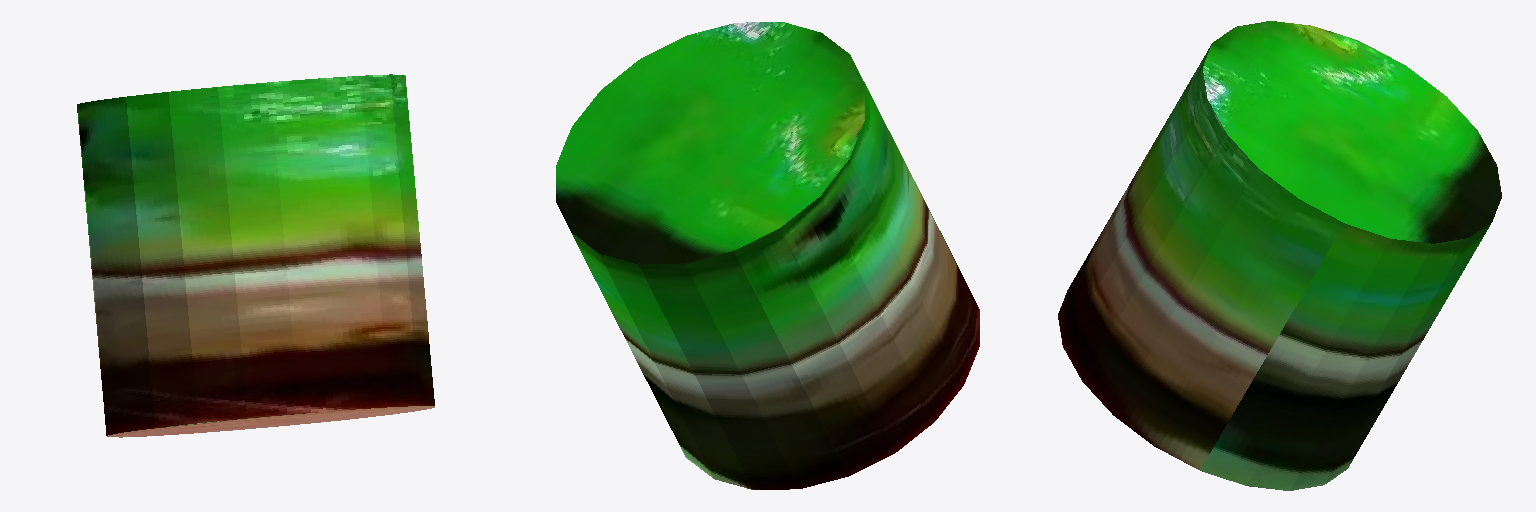
3 renders of one model, left to right at view 1: azimuth 30°, elevation 25°; view 2: azimuth 150°, elevation 25°; view 3: azimuth 270°, elevation 25°, orthographic.
Parts seen in each view (by area): view 1: pCylinder1; view 2: pCylinder1; view 3: pCylinder1.
Part boxes in pixels (left/top/right/bottom): pCylinder1: left=77, top=74, right=434, bottom=437; pCylinder1: left=556, top=22, right=979, bottom=489; pCylinder1: left=1058, top=21, right=1501, bottom=490.
Bounding box in the file's own units: 2.27 × 2.7 × 2.67.
Materials: 1 (1 with a texture image).